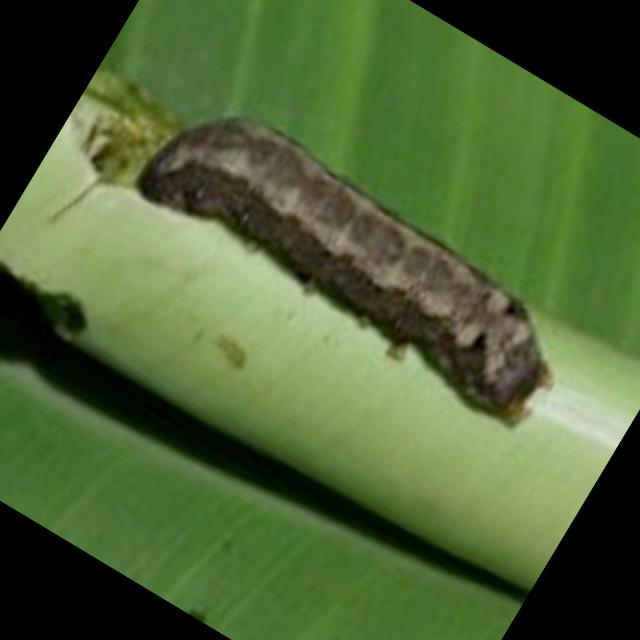Tobacco cutworm: (21, 0, 640, 548)
